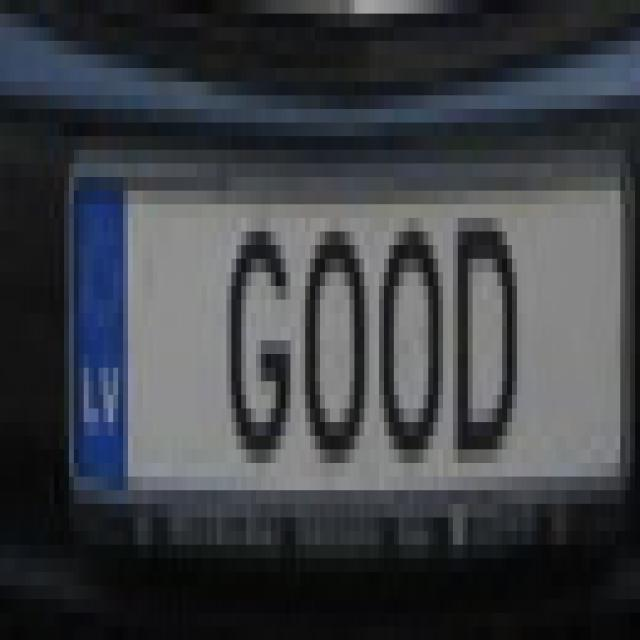0: (374, 203, 452, 478), (298, 206, 370, 474)
D: (452, 200, 521, 476)
G: (222, 200, 296, 462)
